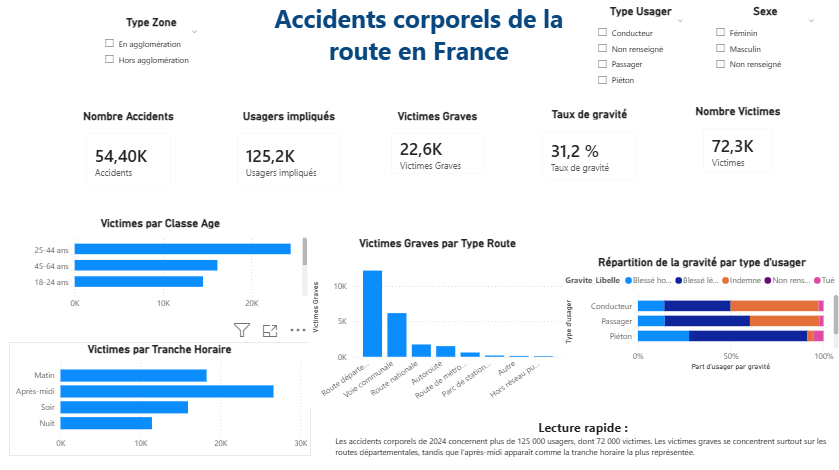

This screenshot's page, from the dashboard's own definition file:
{"tool":"powerbi","page":{"name":"Vue d'ensemble","canvas":[1280,720],"ordinal":0},"visuals":[{"type":"cardVisual","title":"Nombre Accidents","fields":{"Data":["tbl_FACT_Usagers_Analyse_2024.Accidents"]},"box":[118.2,168.2,162.1,136.4],"z":0},{"type":"cardVisual","title":"Usagers impliqués","fields":{"Data":["tbl_FACT_Usagers_Analyse_2024.Usagers impliqués"]},"box":[347,168.2,190.9,136.4],"z":1},{"type":"cardVisual","title":"Nombre Victimes","fields":{"Data":["tbl_FACT_Usagers_Analyse_2024.Victimes"]},"box":[1053,160.6,139.4,121.2],"z":2},{"type":"cardVisual","title":"Victimes Graves","fields":{"Data":["tbl_FACT_Usagers_Analyse_2024.Victimes Graves"]},"box":[580.3,168.2,174.2,115.2],"z":3},{"type":"cardVisual","title":"Taux de gravité","fields":{"Data":["tbl_FACT_Usagers_Analyse_2024.Taux de gravité"]},"box":[809.1,165.2,177.3,127.3],"z":5},{"type":"textbox","box":[412,0,454,116],"z":7},{"type":"barChart","title":"Victimes par Tranche Horaire","fields":{"Y":["tbl_FACT_Usagers_Analyse_2024.Victimes"],"Category":["tbl_FACT_Usagers_Analyse_2024.Tranche_Horaire"]},"box":[18.3,521.7,456.7,171.7],"z":8},{"type":"barChart","title":"Victimes par Classe Age","fields":{"Y":["tbl_FACT_Usagers_Analyse_2024.Victimes"],"Category":["tbl_FACT_Usagers_Analyse_2024.Classe_Age"]},"box":[20,330,455.7,150],"z":9},{"type":"columnChart","title":"Victimes Graves par Type Route","fields":{"Y":["tbl_FACT_Usagers_Analyse_2024.Victimes Graves"],"Category":["tbl_FACT_Usagers_Analyse_2024.Type_Route"]},"box":[472.9,360,390,260],"z":10},{"type":"hundredPercentStackedBarChart","title":"Répartition de la gravité par type d''usager","fields":{"Series":["tbl_FACT_Usagers_Analyse_2024.Gravite_Libelle"],"Category":["tbl_FACT_Usagers_Analyse_2024.Type_Usager"],"Y":["tbl_FACT_Usagers_Analyse_2024.Usagers impliqués"]},"box":[855.7,390,424.3,180],"z":11},{"type":"slicer","title":"Type Usager","fields":{"Values":["tbl_FACT_Usagers_Analyse_2024.Type_Usager"]},"box":[898.9,9.6,154,139],"z":12},{"type":"slicer","title":"Sexe","fields":{"Values":["tbl_FACT_Usagers_Analyse_2024.Sexe_Libelle"]},"box":[1076.9,9.6,174,119],"z":13},{"type":"slicer","title":"Type Zone","fields":{"Values":["tbl_FACT_Usagers_Analyse_2024.Zone_Libelle"]},"box":[151.7,25,165,101.7],"z":14},{"type":"textbox","box":[507.6,631.8,760.6,78.8],"z":15}]}

Visuals, with their boxes in screenshot pixels (x1, y1, x2, y2), scaled from the page's 1280x720 canvas onto the 839x470 screenshot:
"Nombre Accidents" cardVisual: <region>77, 110, 184, 199</region>
"Usagers impliqués" cardVisual: <region>227, 110, 353, 199</region>
"Nombre Victimes" cardVisual: <region>690, 105, 782, 184</region>
"Victimes Graves" cardVisual: <region>380, 110, 495, 185</region>
"Taux de gravité" cardVisual: <region>530, 108, 647, 191</region>
textbox: <region>270, 0, 568, 76</region>
"Victimes par Tranche Horaire" barChart: <region>12, 341, 311, 453</region>
"Victimes par Classe Age" barChart: <region>13, 215, 312, 313</region>
"Victimes Graves par Type Route" columnChart: <region>310, 235, 566, 405</region>
"Répartition de la gravité par type d''usager" hundredPercentStackedBarChart: <region>561, 255, 838, 372</region>
"Type Usager" slicer: <region>589, 6, 690, 97</region>
"Sexe" slicer: <region>706, 6, 820, 84</region>
"Type Zone" slicer: <region>99, 16, 208, 83</region>
textbox: <region>333, 412, 831, 464</region>
